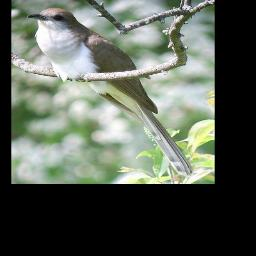Cuckoo: (27, 7, 197, 178)
